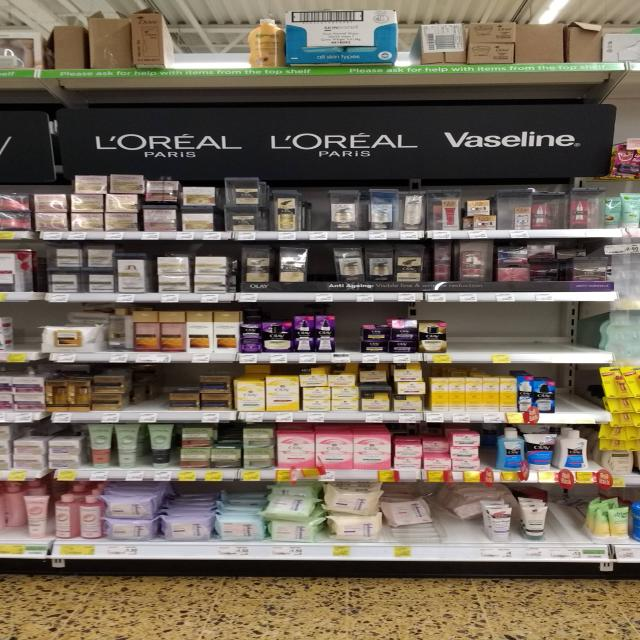void: (437, 495, 476, 562), (554, 497, 590, 562), (563, 373, 599, 425), (552, 313, 587, 362), (450, 312, 484, 362), (517, 313, 550, 363), (8, 309, 38, 362), (129, 378, 165, 422), (485, 310, 515, 362)
